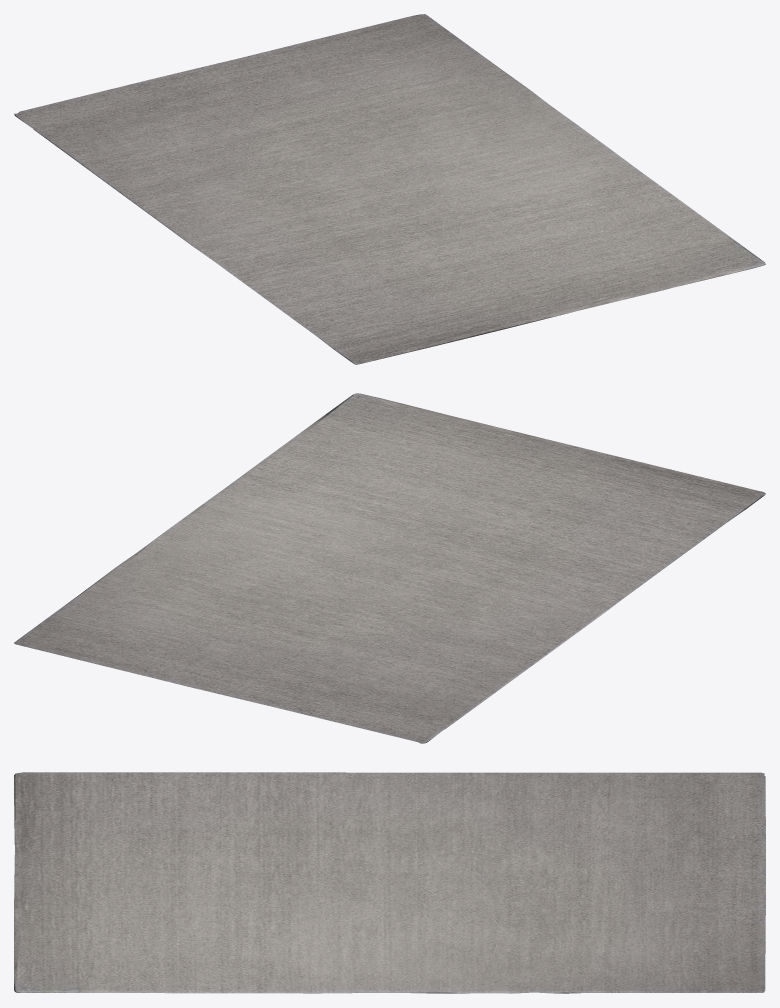
File: 14 - KNARDRUP Rug, low pile - light grey 160x230 cm.glb
The picture shows the model from 3 angles, top to bottom: view 1: azimuth 30°, elevation 25°; view 2: azimuth 150°, elevation 25°; view 3: azimuth 270°, elevation 25°; orthographic projection. The views are drawn at different scales.
Parts seen in each view (by area): view 1: ProcessedMeshNode; view 2: ProcessedMeshNode; view 3: ProcessedMeshNode.
Boxes of the visible parts, x1,y1,x2,y2 form: ProcessedMeshNode: [14, 14, 765, 364]; ProcessedMeshNode: [14, 393, 765, 743]; ProcessedMeshNode: [14, 772, 765, 993].
Bounding box in the file's own units: 1.61 × 0.00965 × 2.32.
Materials: 1 (1 with a texture image).
